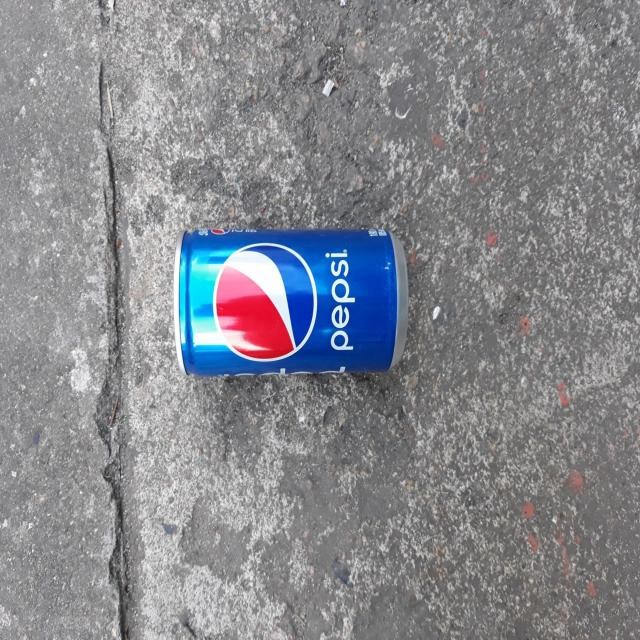can: (174, 228, 409, 376)
